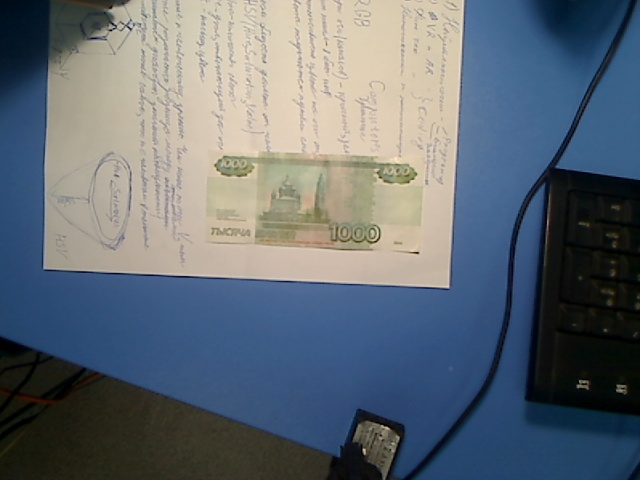banknotes: (204, 148, 427, 256)
